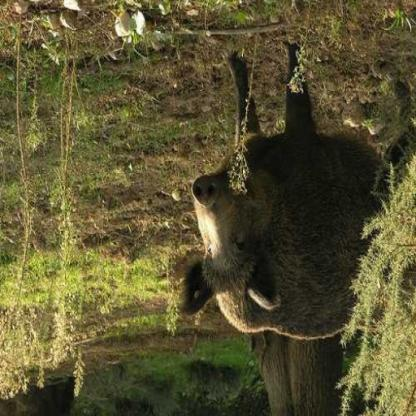boar: (166, 42, 415, 389)
